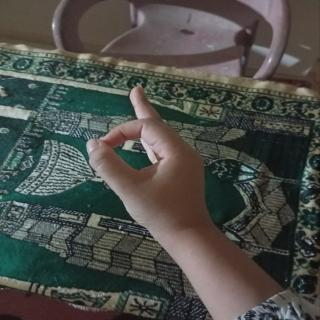Space: (80, 83, 223, 242)
